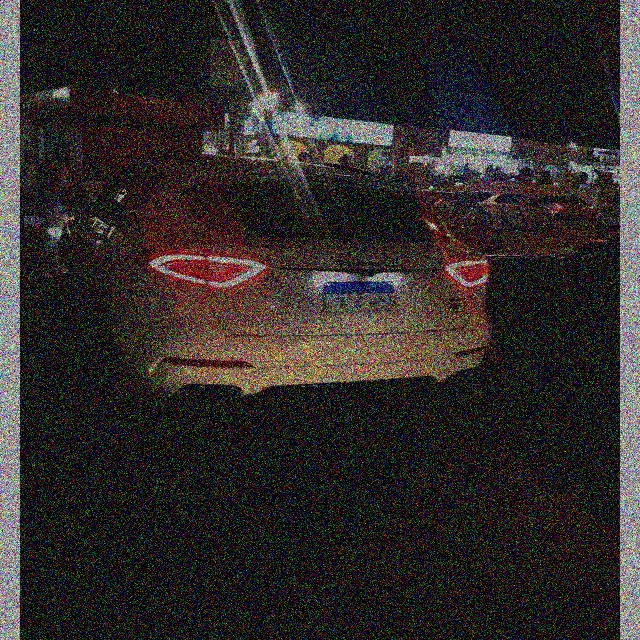License Plate: (321, 280, 396, 313)
